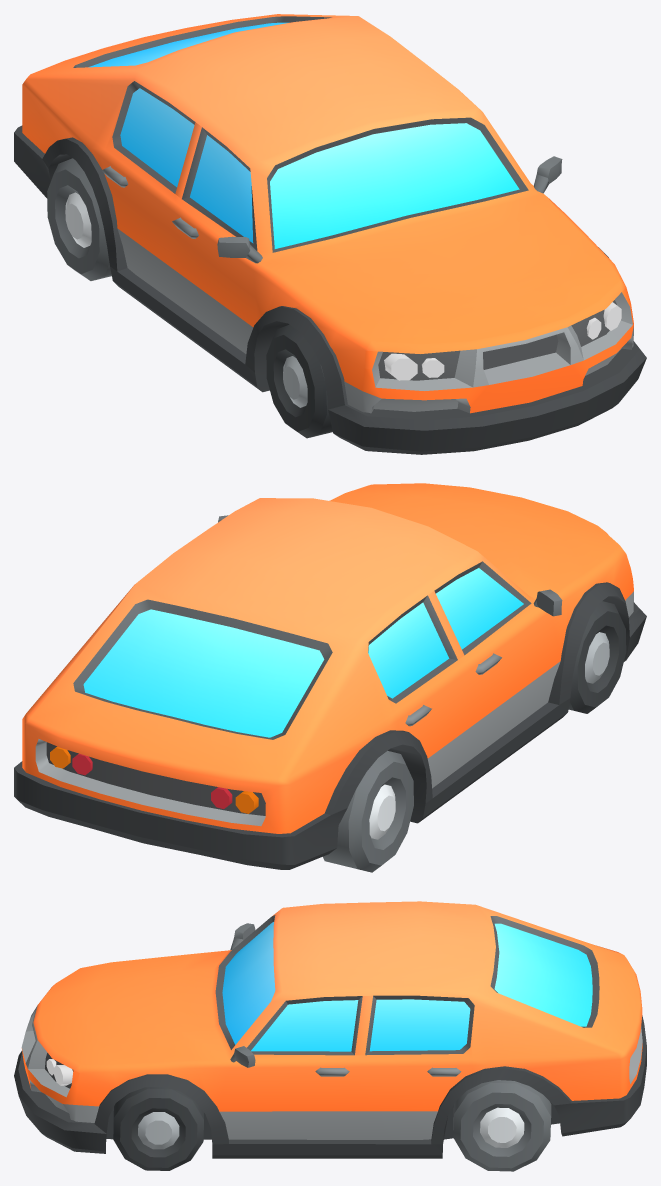
The model's file is Car_37.glb.
3 views of the same model, one above another, from view 1: azimuth 30°, elevation 25°; view 2: azimuth 150°, elevation 25°; view 3: azimuth 270°, elevation 25° (orthographic). The views are drawn at different scales.
Visible parts, largest first — view 1: Car_37, Wheel_070, Wheel_069; view 2: Car_37, Wheel_070, Wheel_069; view 3: Car_37, Wheel_072, Wheel_071.
Part boxes in pixels (x1,y1,x2,y2): Car_37: [14, 14, 646, 454]; Wheel_070: [47, 158, 111, 280]; Wheel_069: [266, 324, 332, 438]; Car_37: [14, 483, 646, 869]; Wheel_070: [323, 751, 413, 872]; Wheel_069: [568, 601, 626, 713]; Car_37: [14, 901, 646, 1158]; Wheel_072: [453, 1080, 551, 1171]; Wheel_071: [113, 1087, 203, 1170].
Bounding box in the file's own units: 2.41 × 1.52 × 4.83.
2 materials, 2 textured.
